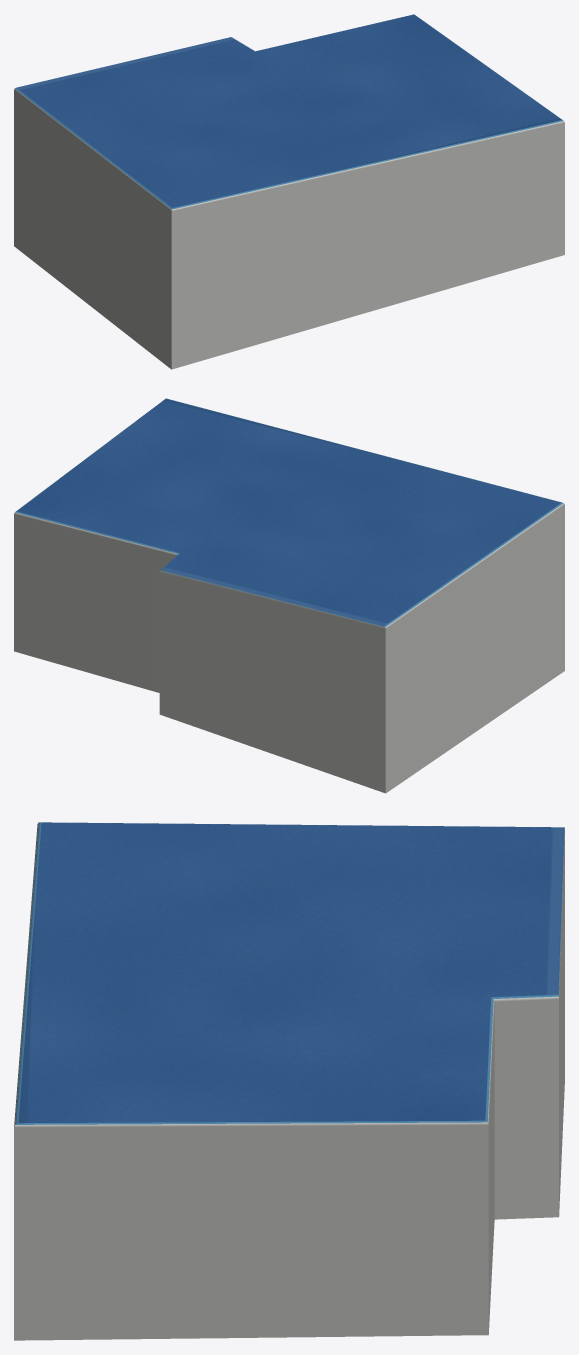
The model's file is intact.glb.
3 renders of one model, top to bottom at view 1: azimuth 30°, elevation 25°; view 2: azimuth 150°, elevation 25°; view 3: azimuth 270°, elevation 25°, orthographic. The views are drawn at different scales.
Visible parts, largest first — view 1: SM_env-store_Intact_00; view 2: SM_env-store_Intact_00; view 3: SM_env-store_Intact_00.
Part boxes in pixels (x1,y1,x2,y2): SM_env-store_Intact_00: [14, 14, 564, 369]; SM_env-store_Intact_00: [14, 398, 564, 793]; SM_env-store_Intact_00: [14, 822, 564, 1340].
Size of the model in its own units: 2.2 by 0.8721 by 1.69.
3 materials, 1 textured.
